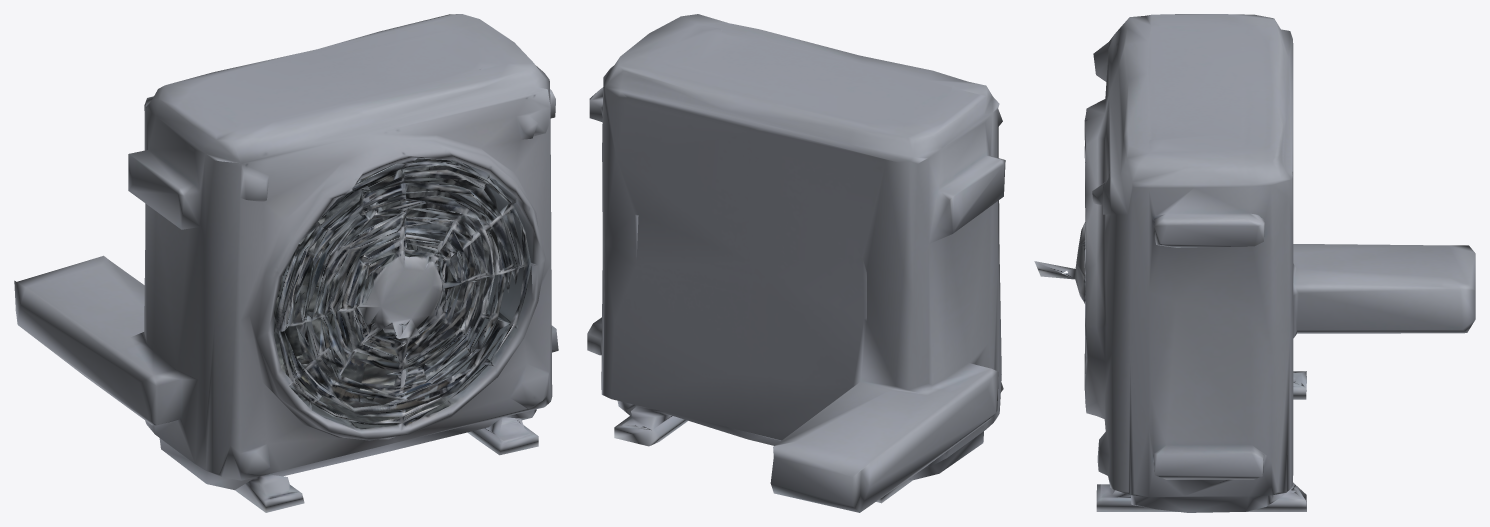
File: klima_wand.glb
The picture shows the model from 3 angles, left to right: view 1: azimuth 30°, elevation 25°; view 2: azimuth 150°, elevation 25°; view 3: azimuth 270°, elevation 25°; orthographic projection.
Parts seen in each view (by area): view 1: tripo_node_94b94265-e280-4230-85dd-d5a2c4688033; view 2: tripo_node_94b94265-e280-4230-85dd-d5a2c4688033; view 3: tripo_node_94b94265-e280-4230-85dd-d5a2c4688033.
Part boxes in pixels (box(x1,y1,x2,y2)): tripo_node_94b94265-e280-4230-85dd-d5a2c4688033: box(14, 14, 558, 512); tripo_node_94b94265-e280-4230-85dd-d5a2c4688033: box(587, 14, 1005, 512); tripo_node_94b94265-e280-4230-85dd-d5a2c4688033: box(1034, 14, 1475, 512).
Bounding box in the file's own units: 0.9704 × 0.8838 × 0.98.
Materials: 1 (1 with a texture image).
